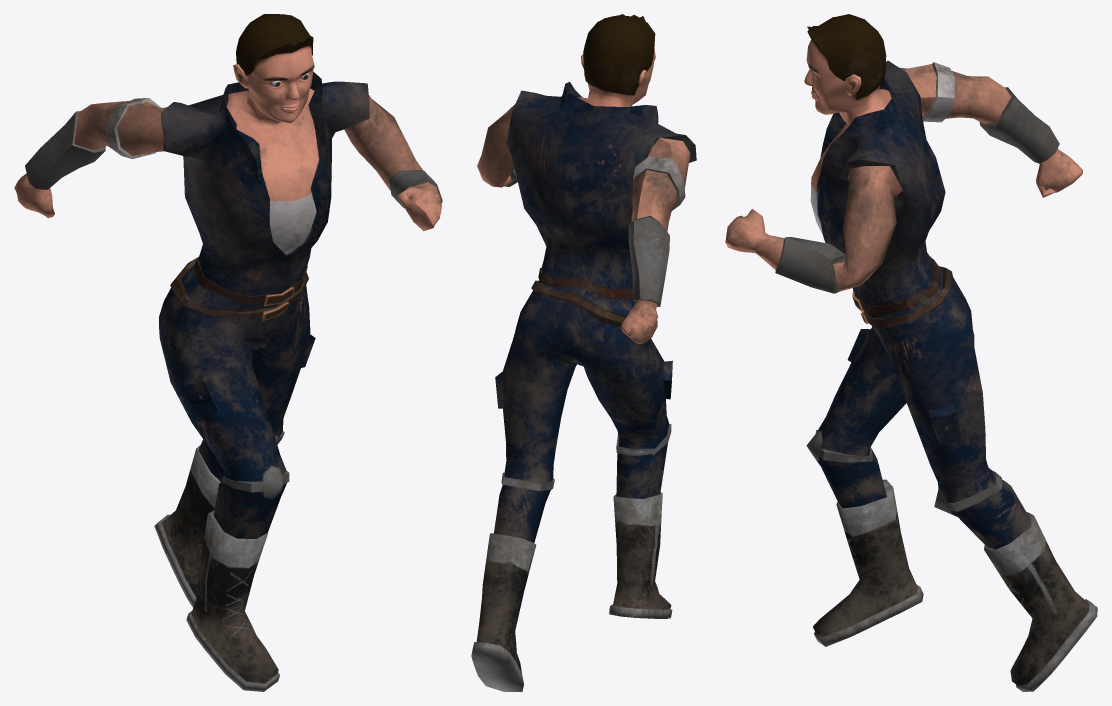
Rendered from Anim_correr_jugador.0030.obj.
The picture shows the model from 3 angles, left to right: view 1: azimuth 30°, elevation 25°; view 2: azimuth 150°, elevation 25°; view 3: azimuth 270°, elevation 25°; orthographic projection. The views are drawn at different scales.
Visible parts, largest first — view 1: Anim_correr_jugador; view 2: Anim_correr_jugador; view 3: Anim_correr_jugador.
Part boxes in pixels (<box>): Anim_correr_jugador: <box>14,14,442,691</box>; Anim_correr_jugador: <box>471,14,696,691</box>; Anim_correr_jugador: <box>725,14,1097,691</box>.
Bounding box in the file's own units: 4.54 × 9.83 × 5.05.
Materials: 2 (2 with a texture image).
